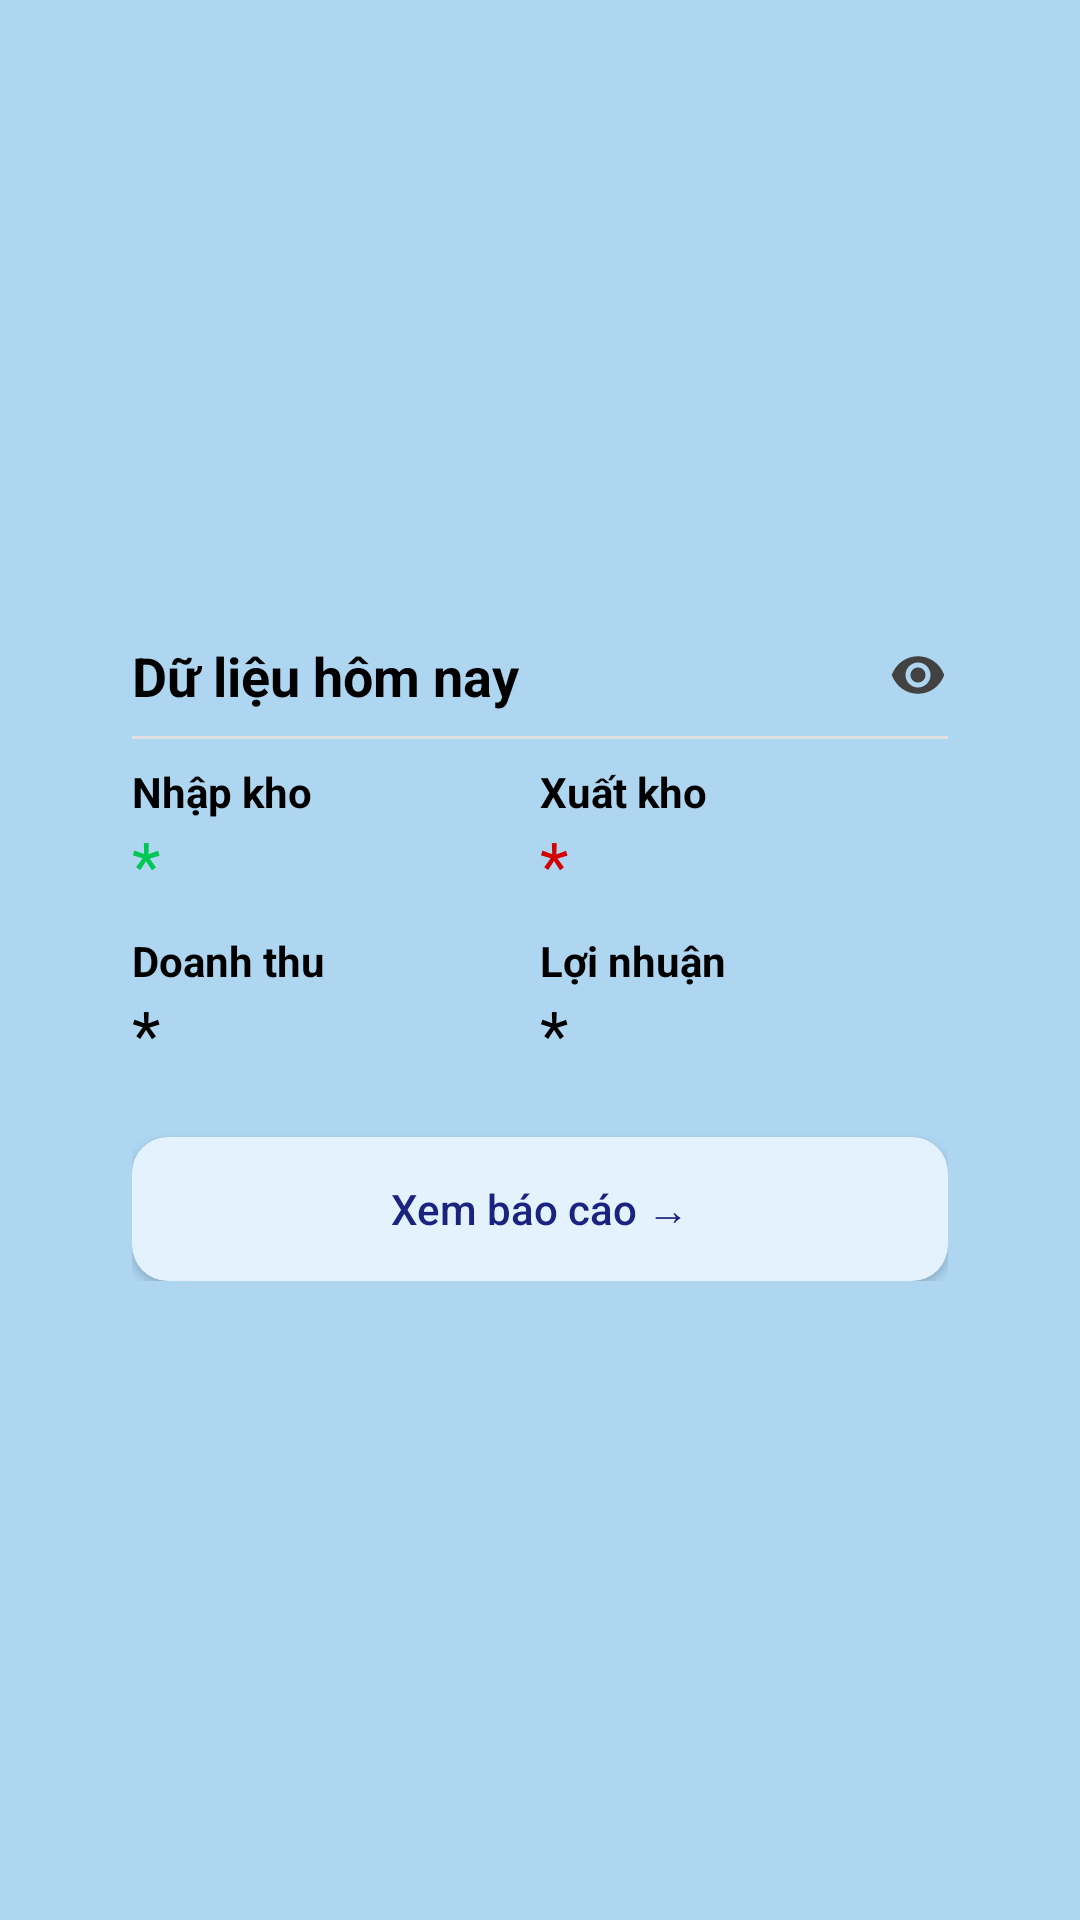

Icons on this 1080px x 1920px Android screen, each with the point to tap as point (x, y):
eye: point (918, 675)
